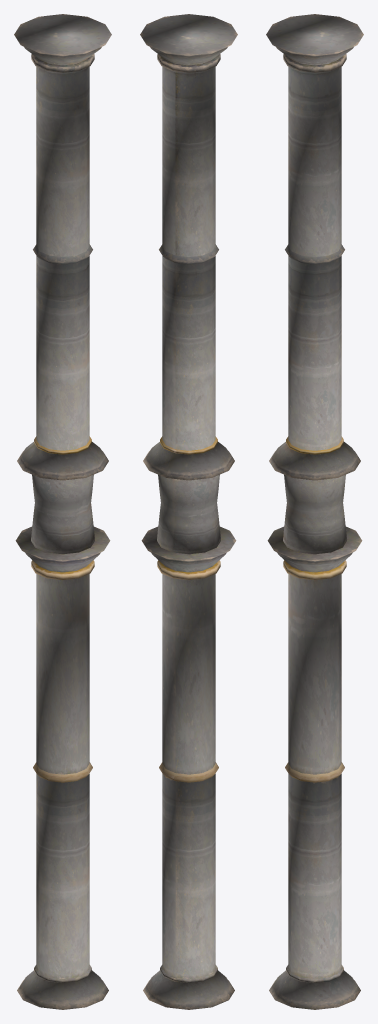
The picture shows the model from 3 angles, left to right: view 1: azimuth 90°, elevation 25°; view 2: azimuth 150°, elevation 25°; view 3: azimuth 270°, elevation 25°; orthographic projection.
Parts seen in each view (by area): view 1: 柱体; view 2: 柱体; view 3: 柱体.
Boxes of the visible parts, x1=… form: 柱体: x1=14, y1=14, x2=111, y2=1009; 柱体: x1=140, y1=14, x2=237, y2=1009; 柱体: x1=266, y1=14, x2=363, y2=1009.
Size of the model in its own units: 1963 by 21139 by 1963.
